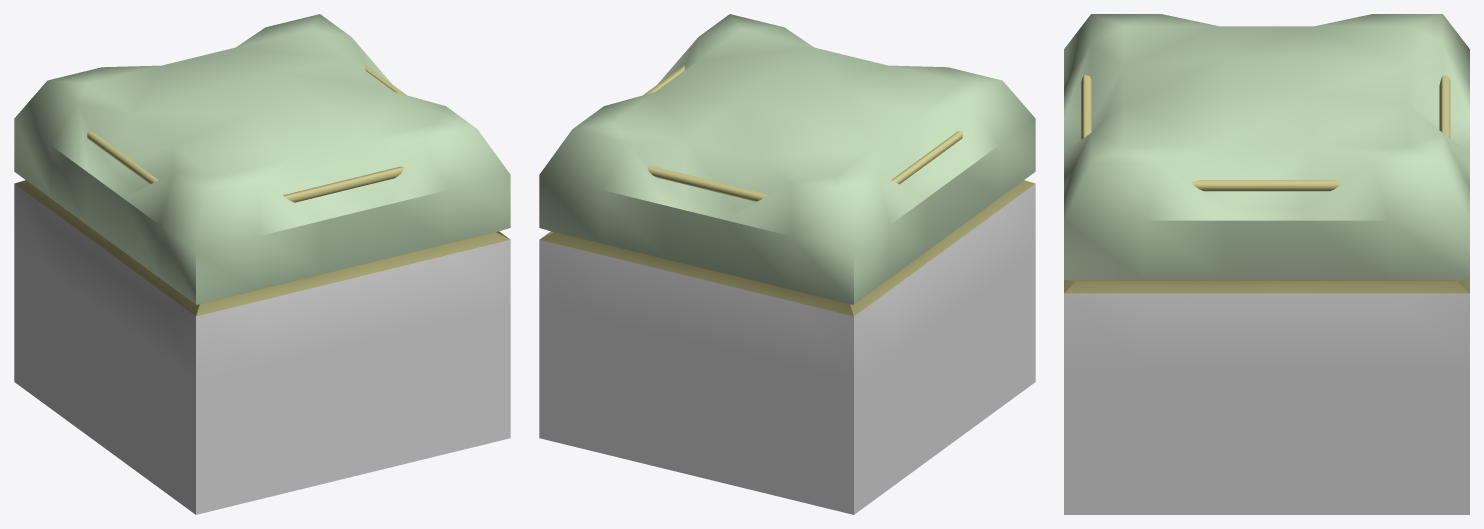
The picture shows the model from 3 angles, left to right: view 1: azimuth 30°, elevation 25°; view 2: azimuth 150°, elevation 25°; view 3: azimuth 270°, elevation 25°; orthographic projection. The views are drawn at different scales.
Parts seen in each view (by area): view 1: pCylinder25; view 2: pCylinder25; view 3: pCylinder25.
Part boxes in pixels (x1,y1,x2,y2): pCylinder25: (14,14,510,514); pCylinder25: (539,14,1035,514); pCylinder25: (1064,14,1469,514).
Bounding box in the file's own units: 3.64 × 3.51 × 3.64.
